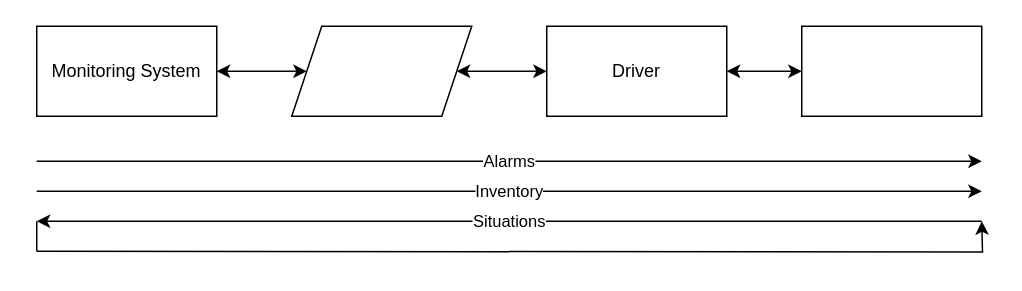
Some shapes in this 1022 by 291 pixel diagram are drawn without their labels. The shapes that lost their labels are listed below. From the top down, each one's centre as x and y in pixels, then its label:
At [381,70]: "Datasource".
At [891,70]: "Engine".
